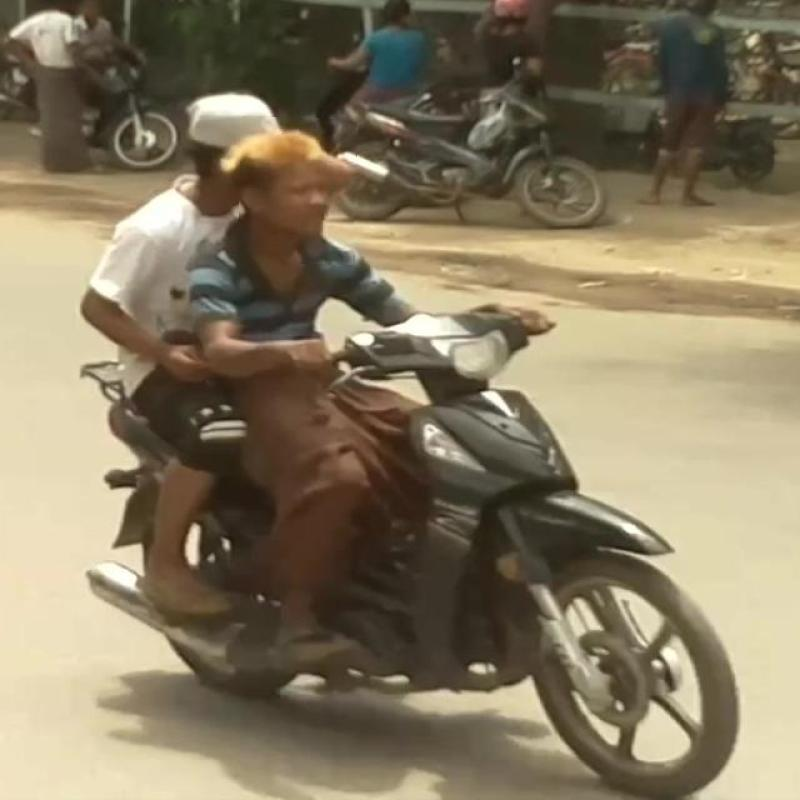nohelmet: (239, 117, 357, 265)
